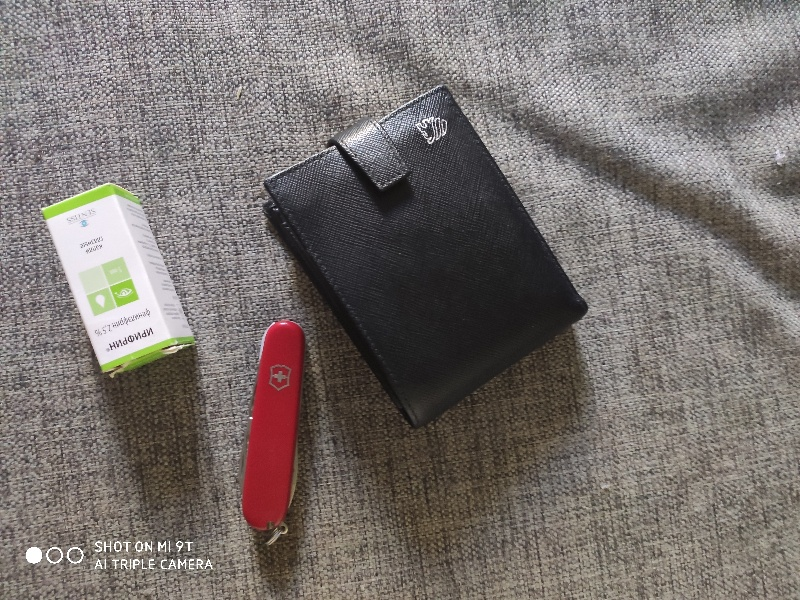ifrin: (38, 181, 198, 385)
knife: (248, 311, 315, 551)
wallet: (258, 75, 591, 431)
